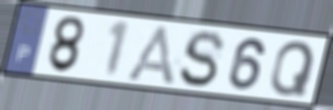1: (103, 19, 132, 80)
6: (227, 35, 267, 92)
8: (47, 14, 87, 74)
A: (122, 23, 178, 88)
Q: (267, 39, 317, 98)
S: (176, 28, 228, 90)
